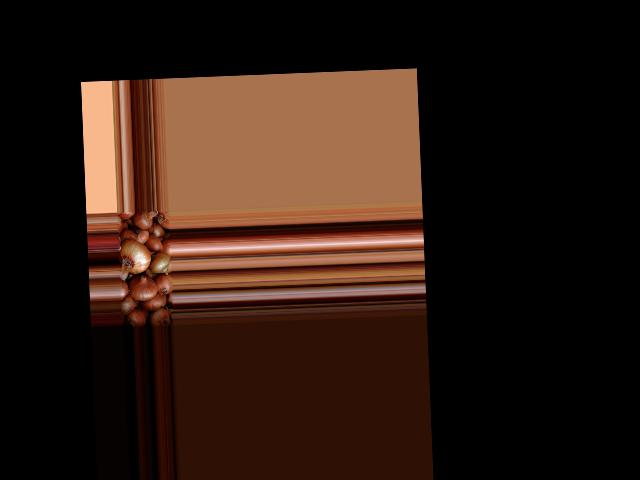onion: (149, 308, 169, 327)
